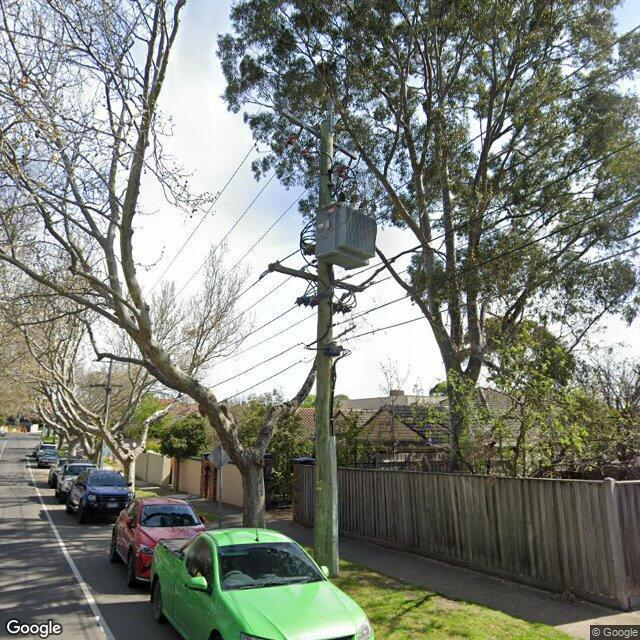HV-transmission: (280, 97, 354, 152), (286, 126, 352, 178)
crossarm: (281, 109, 357, 159), (268, 263, 362, 292), (89, 384, 124, 387), (93, 360, 118, 363)
timber-pole: (314, 119, 338, 578), (98, 358, 113, 469)
transformer: (316, 193, 377, 270)
